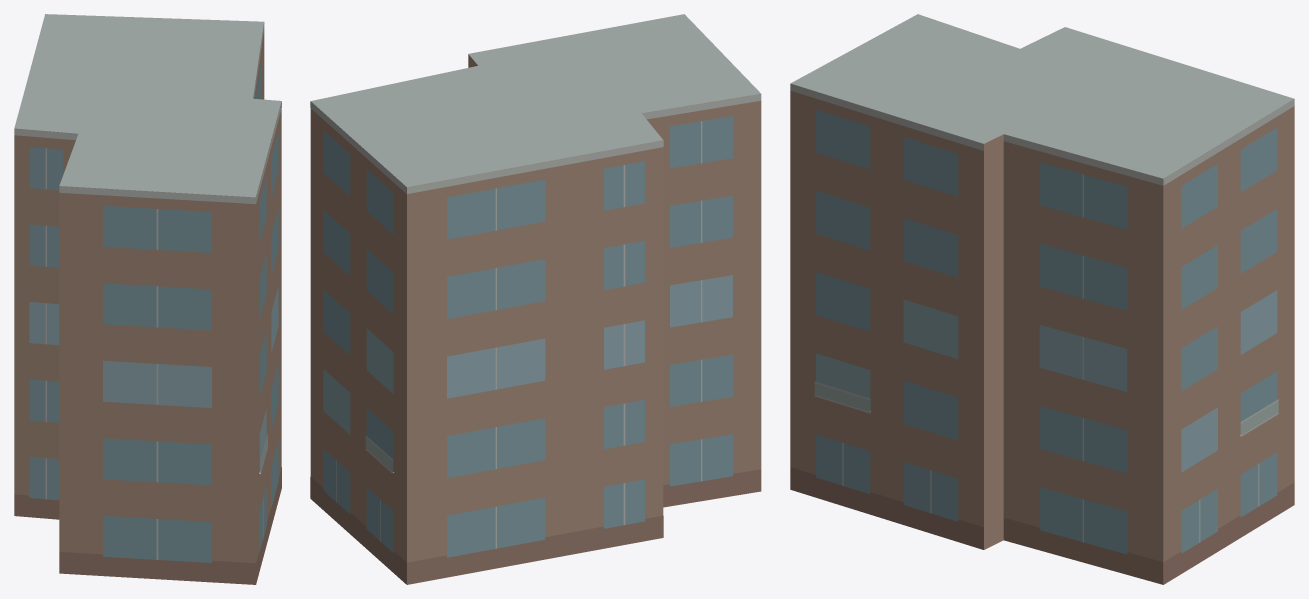
File: survey-upis-32574956.glb
The picture shows the model from 3 angles, left to right: view 1: azimuth 30°, elevation 25°; view 2: azimuth 150°, elevation 25°; view 3: azimuth 270°, elevation 25°; orthographic projection. The views are drawn at different scales.
Visible parts, largest first — view 1: survey-upis-32574956.tmp; view 2: survey-upis-32574956.tmp; view 3: survey-upis-32574956.tmp.
Part boxes in pixels (<box>): survey-upis-32574956.tmp: <box>14,14,281,584</box>; survey-upis-32574956.tmp: <box>310,14,761,584</box>; survey-upis-32574956.tmp: <box>790,14,1294,584</box>.
Bounding box in the file's own units: 12.19 × 14 × 15.77.
